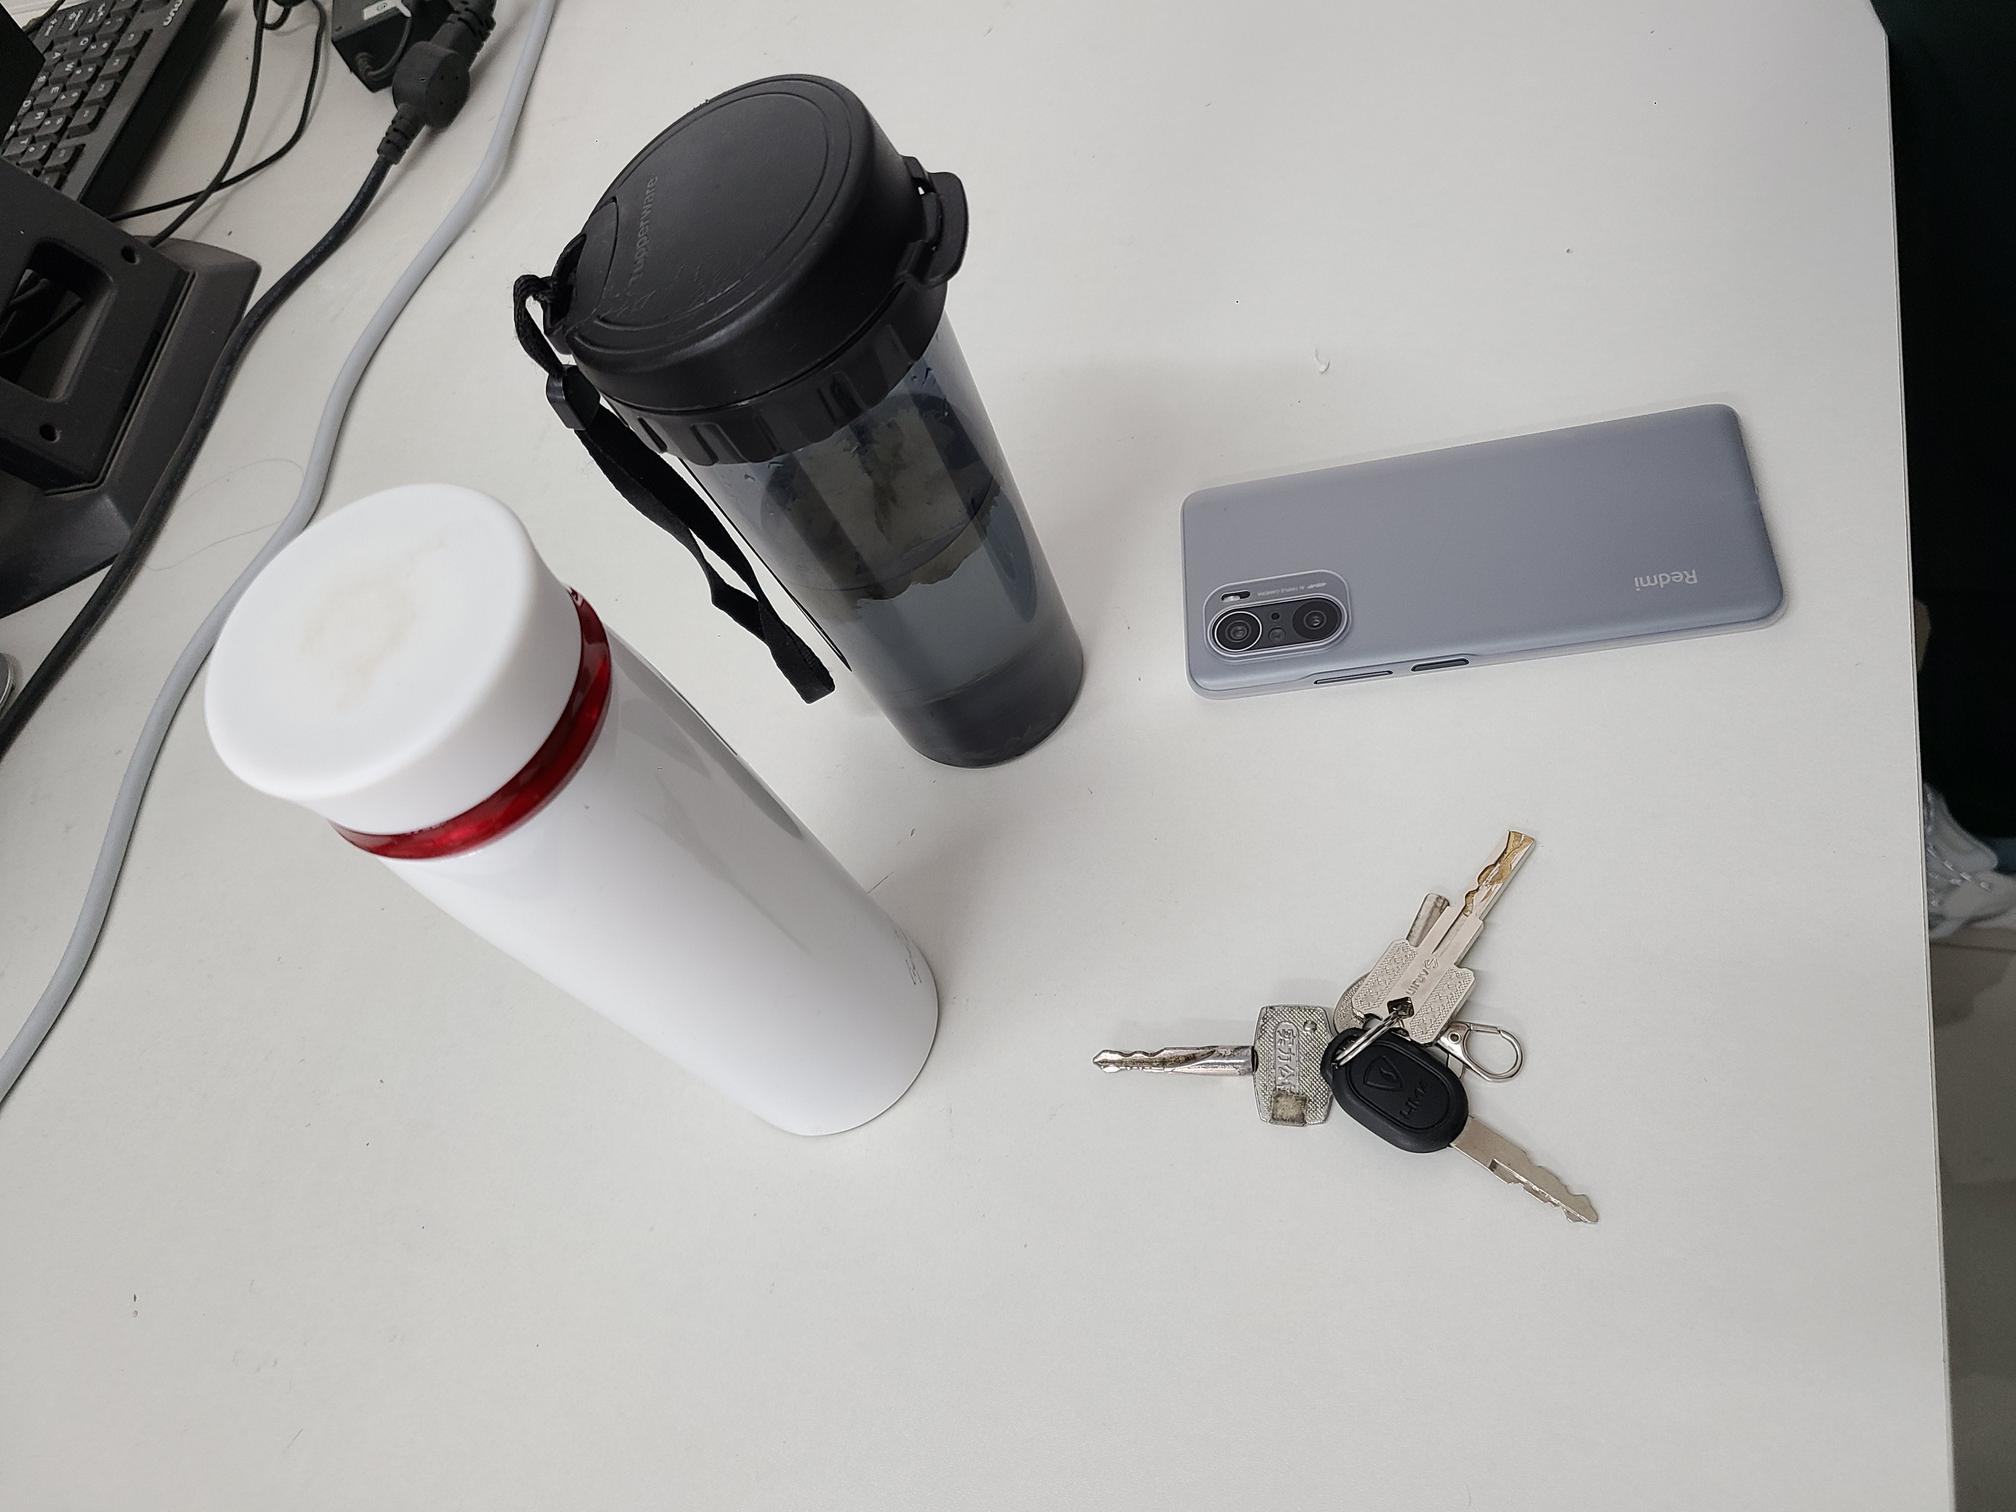cup: (157, 454, 968, 1148), (487, 83, 1098, 762)
key: (1078, 831, 1606, 1236)
